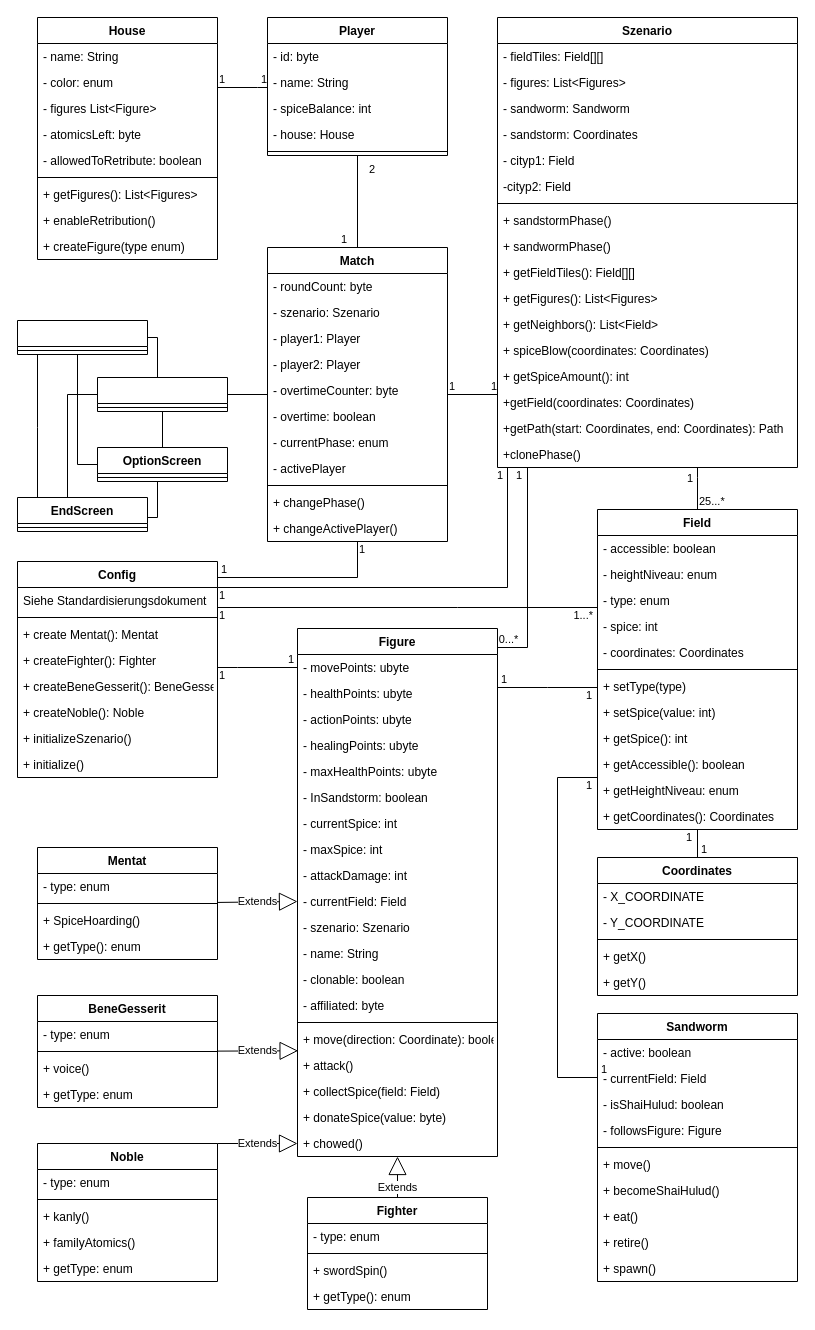
Some shapes in this 815 by 1330 pixel diagram are drawn without their labels. Each missing label, with the centre of its shape:
Gamescreen: the point at 162,394
StartScreen: the point at 82,337
